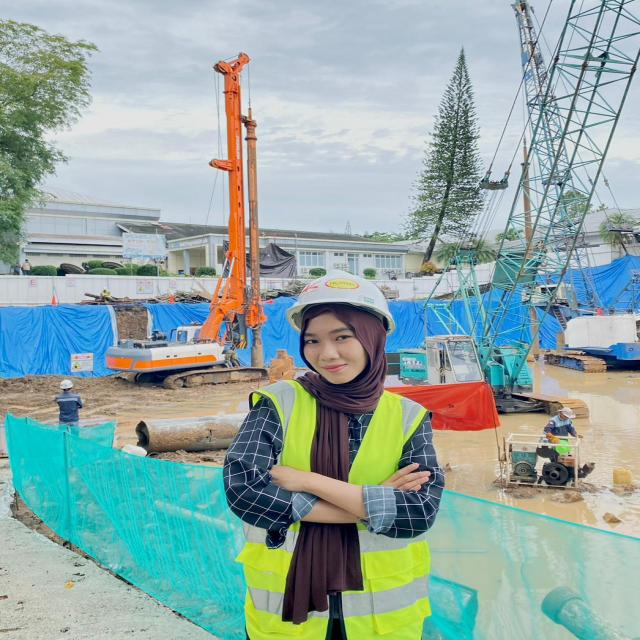safetyhelmet: (289, 263, 409, 389)
